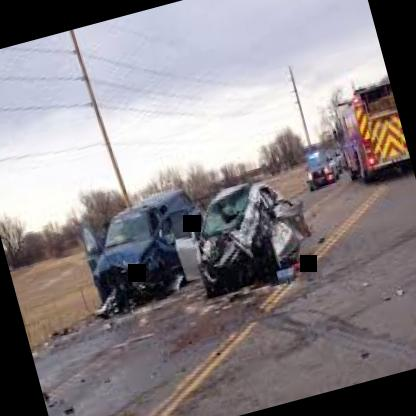accident: (53, 130, 336, 368)
